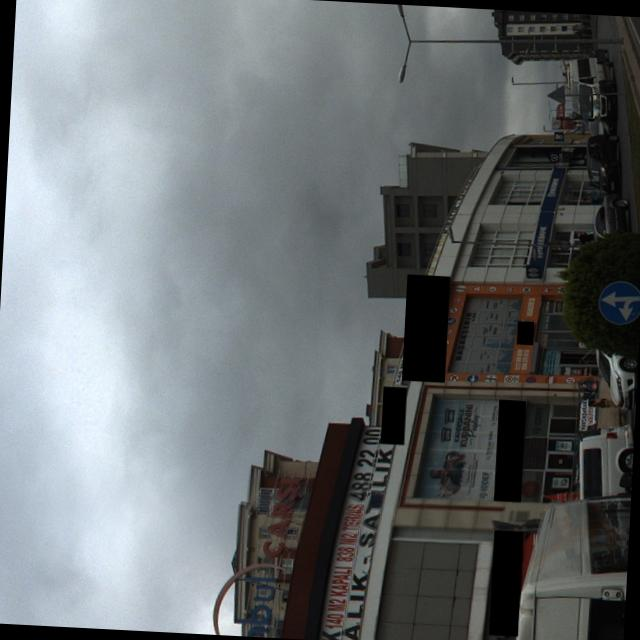SignStore: (402, 275, 450, 381), (490, 530, 524, 635), (494, 399, 526, 501), (381, 386, 407, 443), (517, 320, 535, 344)
